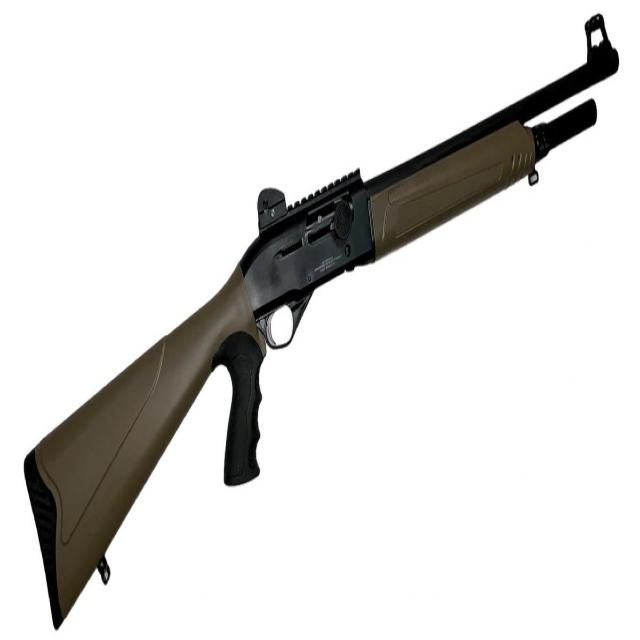ShotGun: (23, 14, 621, 631)
